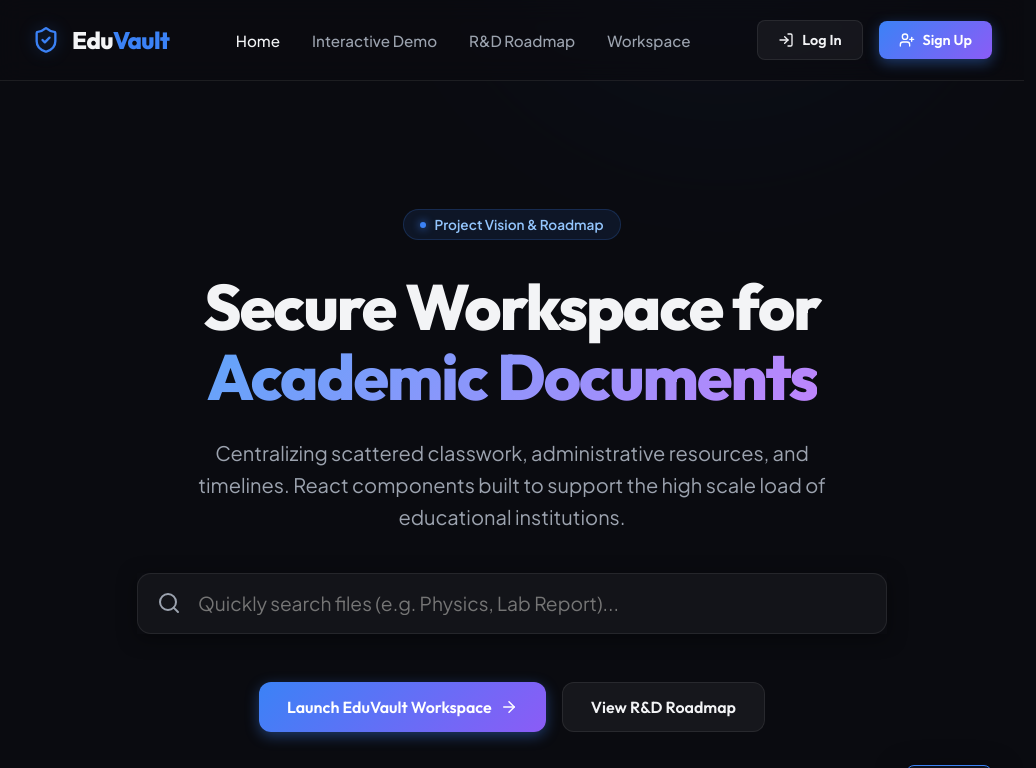
Test: EduVault App Rendering & Navigation tests › should navigate into a folder and go back when clicking the Back button
# Navigate to Workspace
Click the link "Workspace": {"x": 649, "y": 40} [607, 30, 691, 50]
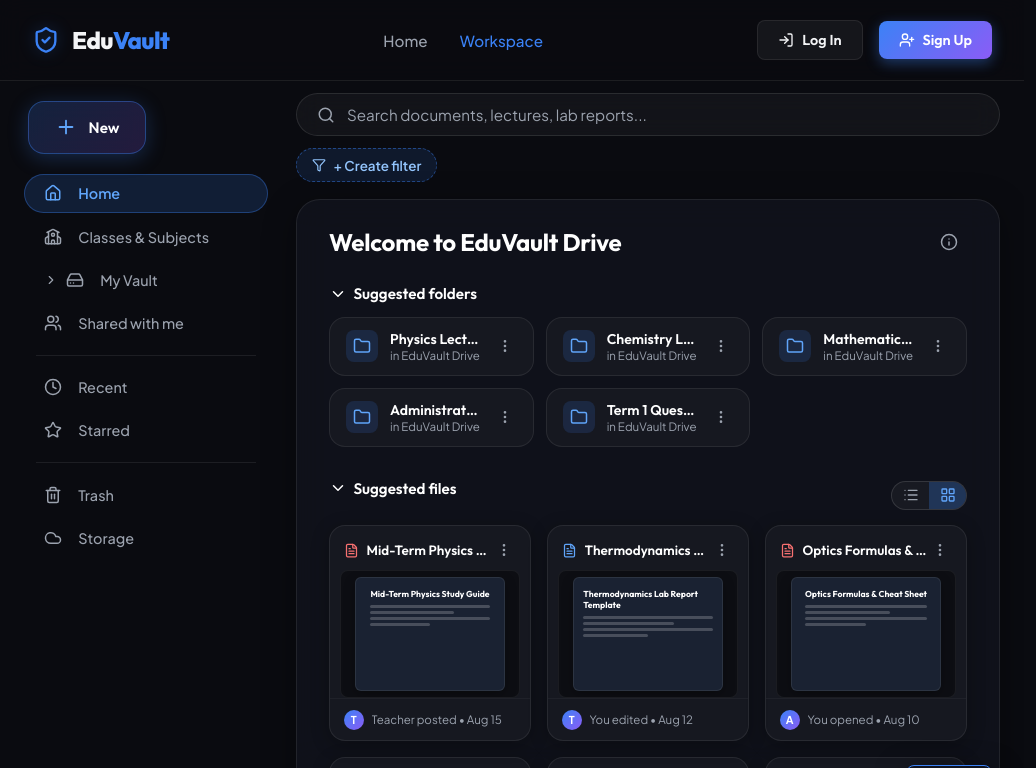
# Click on a folder
Click the text "Physics Lecture Slides": {"x": 435, "y": 339} [390, 330, 481, 348]
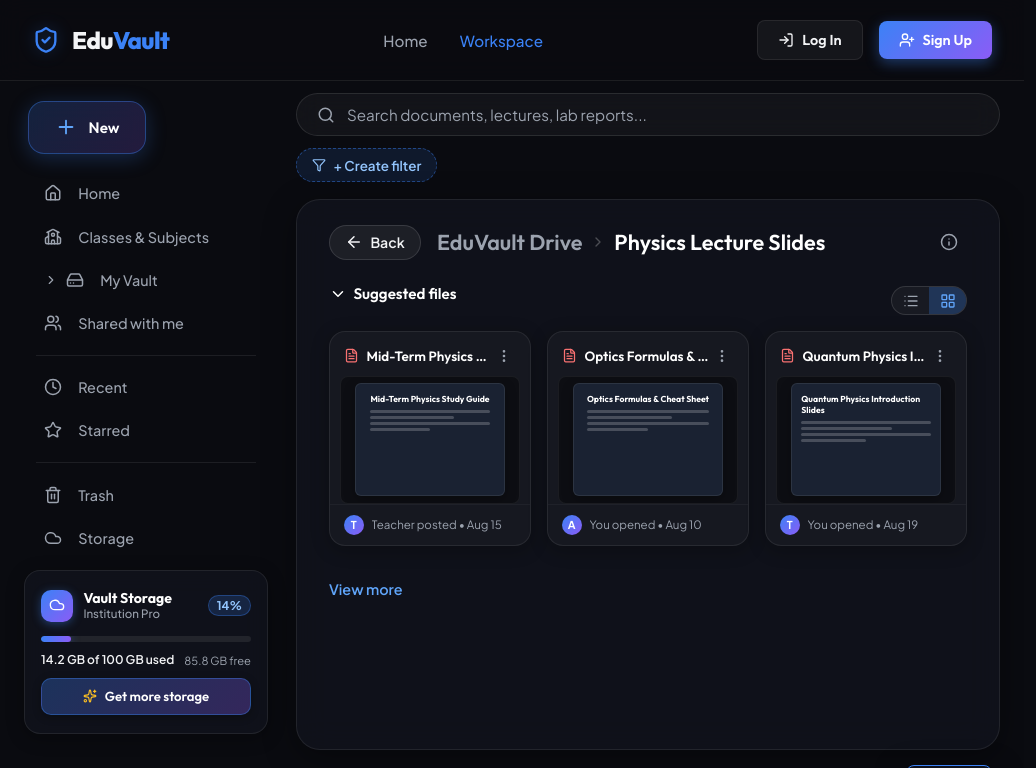
Check: the button "Back" is shown
# Click the Back button
Click the button "Back": {"x": 375, "y": 242} [329, 225, 421, 260]
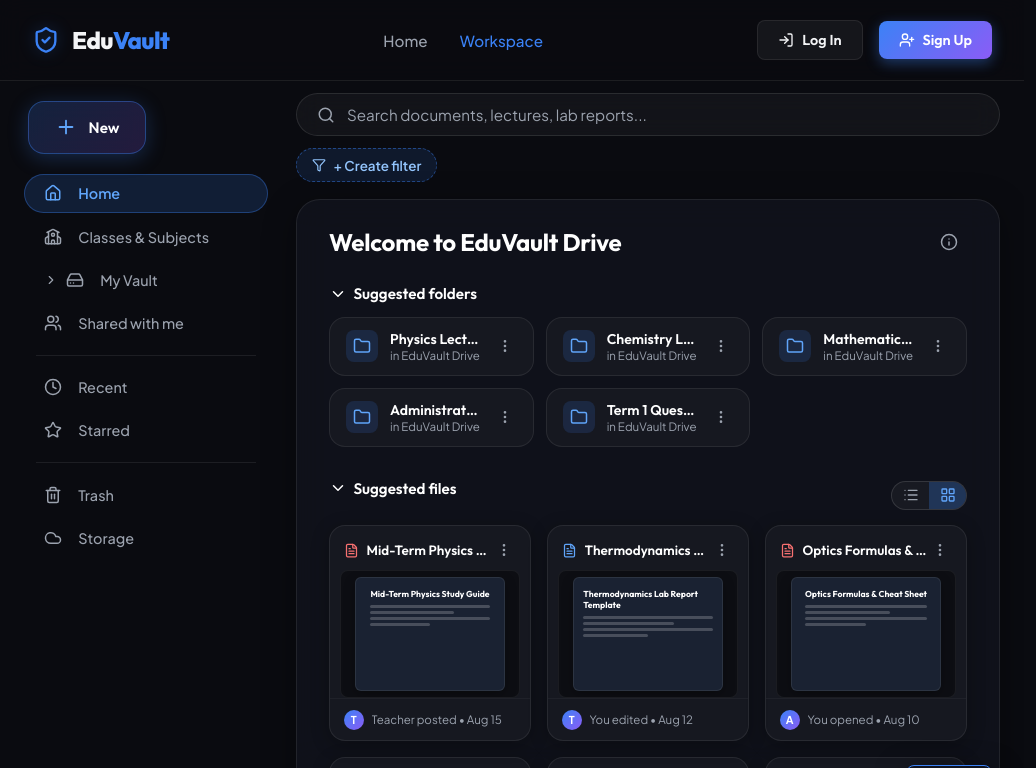
Check: the text "Suggested folders" is shown, box [353, 284, 477, 303]
